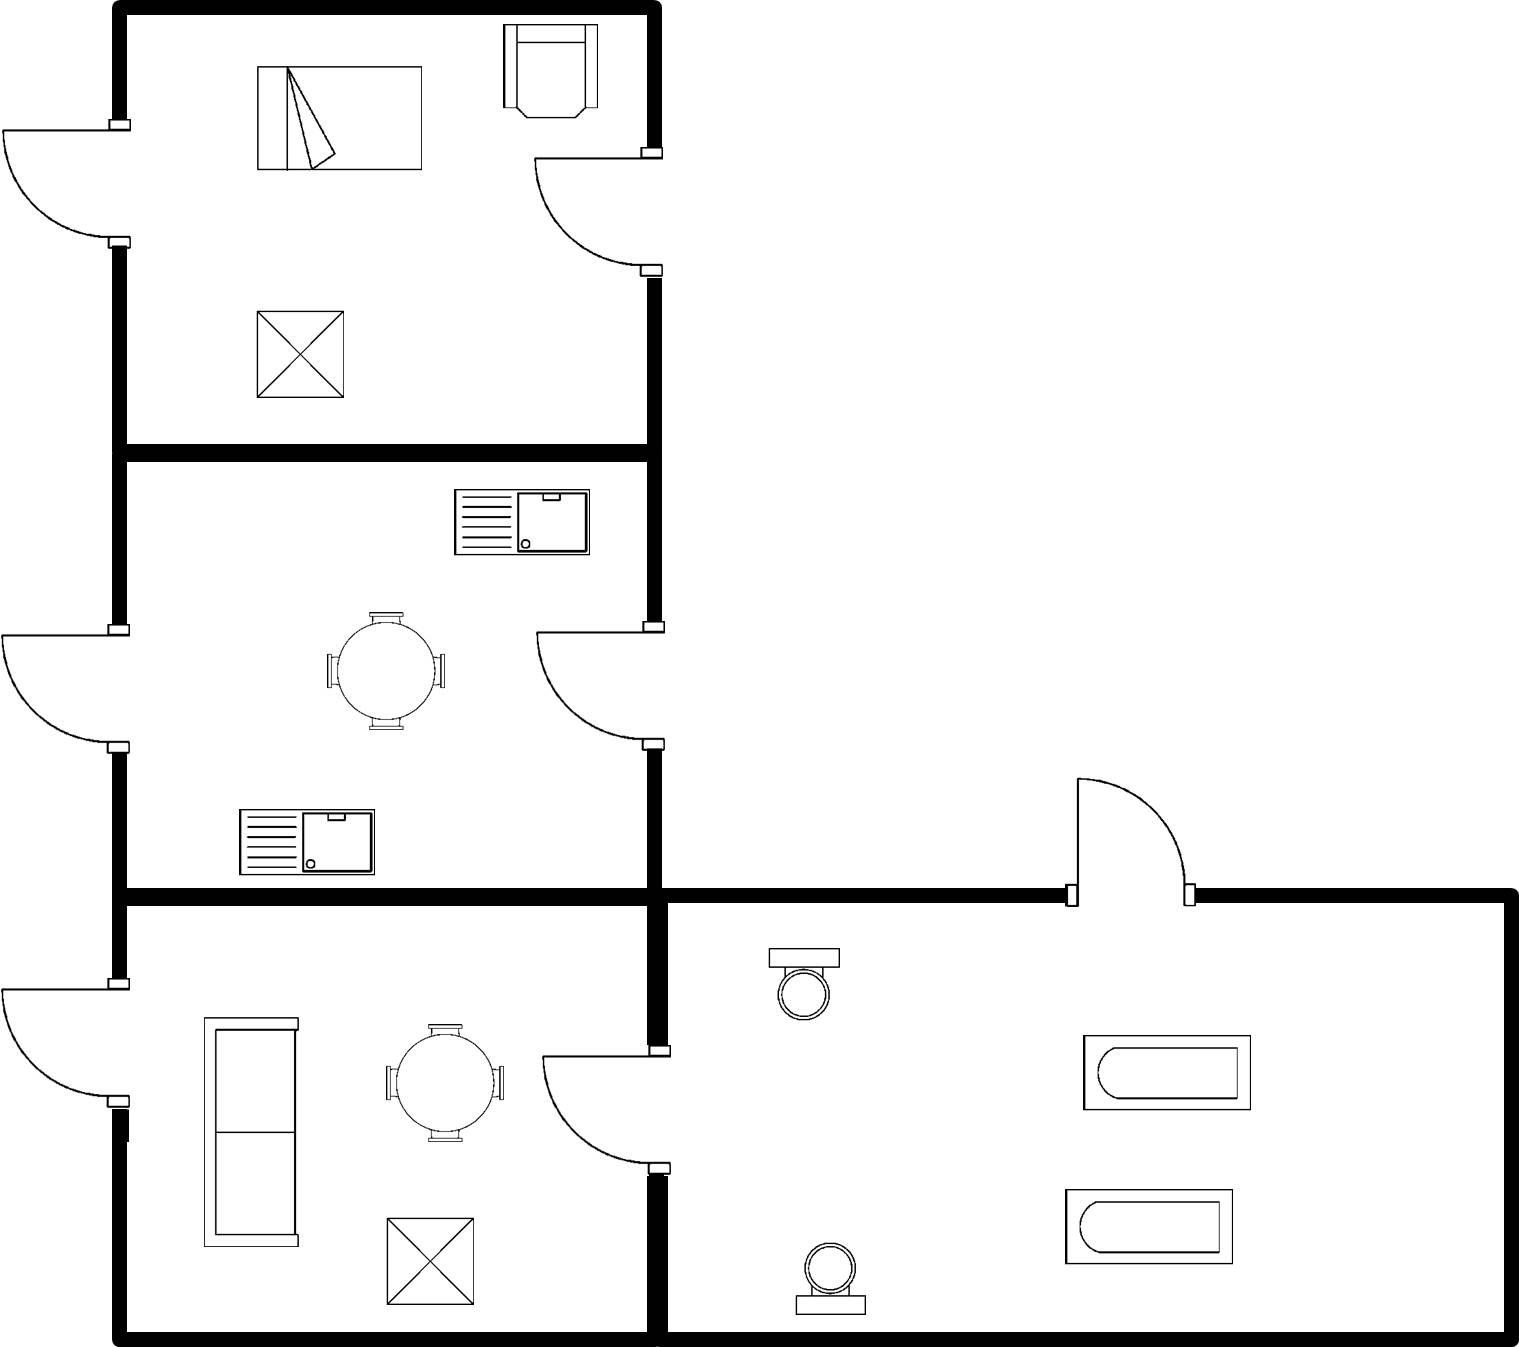bed: (244, 55, 430, 179)
round_table: (312, 601, 458, 736), (375, 1013, 518, 1149)
sink: (228, 797, 385, 885), (446, 478, 602, 567)
sofa: (195, 1008, 307, 1259)
toilet: (783, 1233, 878, 1322), (756, 936, 847, 1027)
tub: (1050, 1177, 1246, 1273), (1072, 1025, 1260, 1122)
